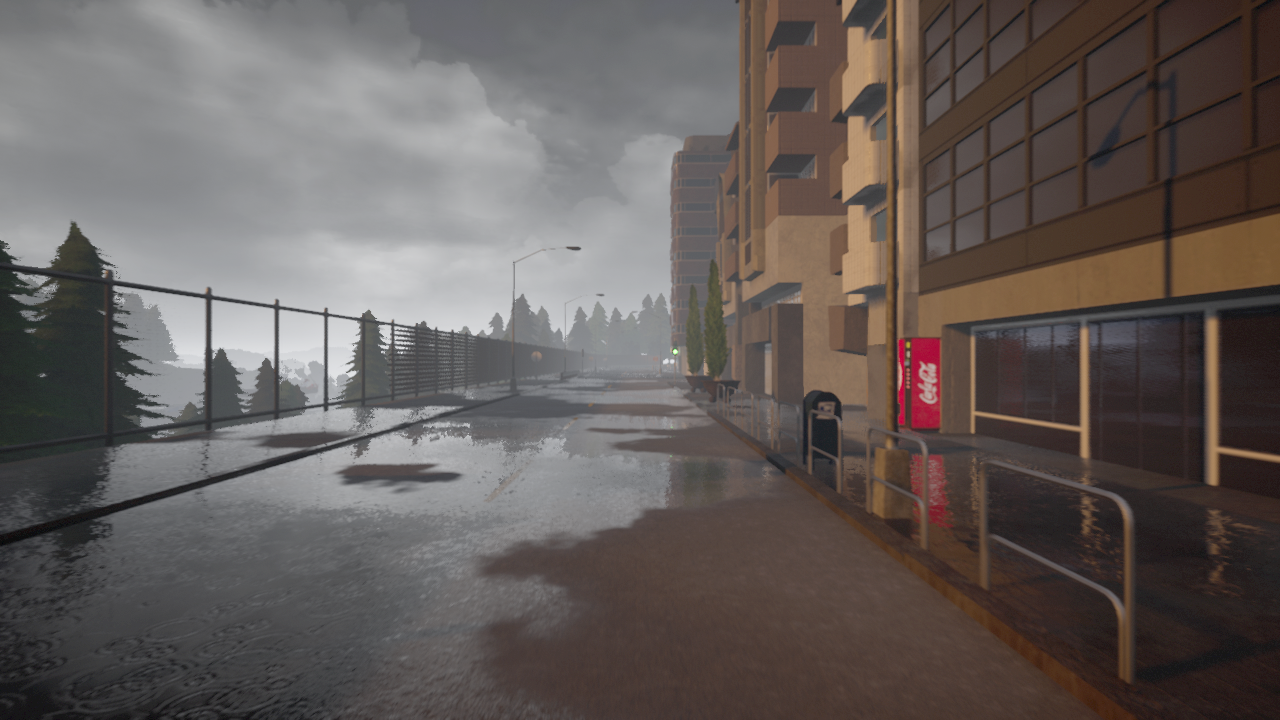green: (672, 340, 678, 356)
